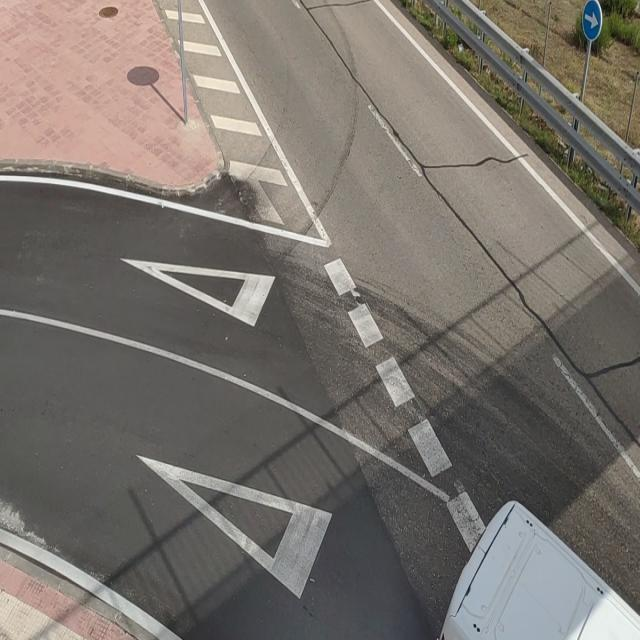Car: (446, 494, 640, 640)
